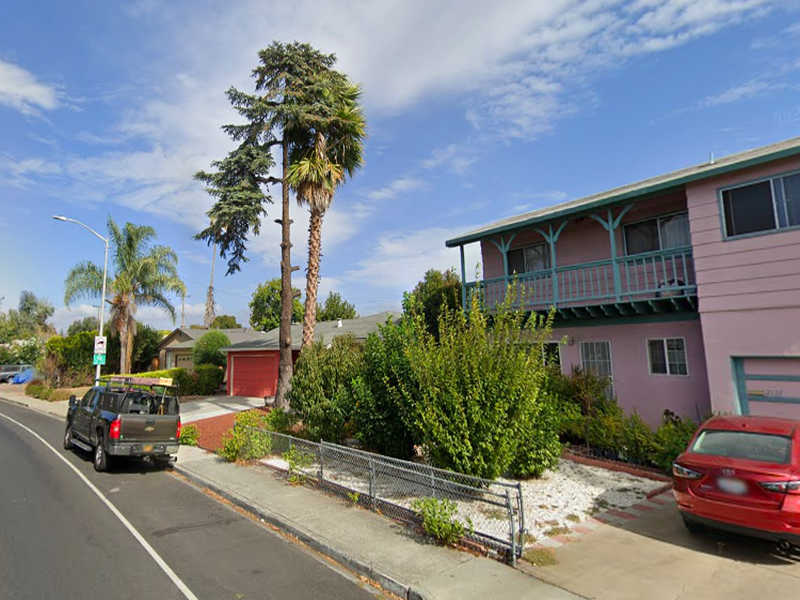tree: (192, 40, 370, 429)
